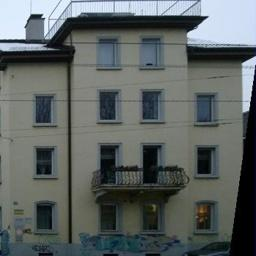building: (0, 12, 255, 256)
